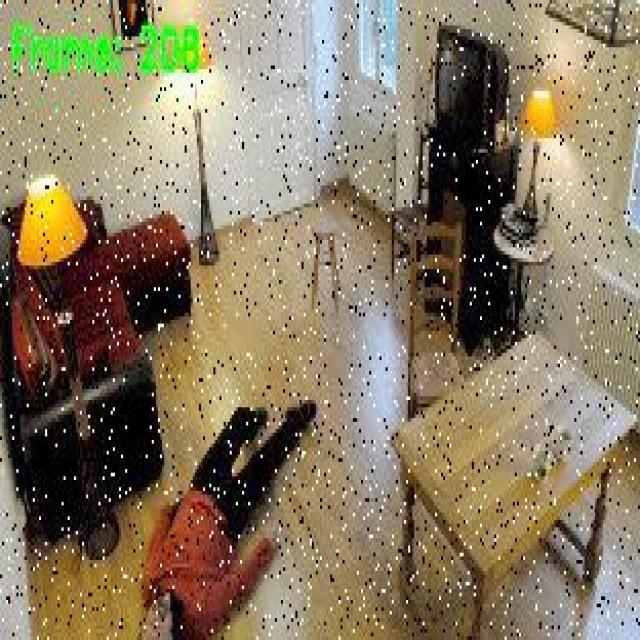fall: (125, 392, 322, 636)
